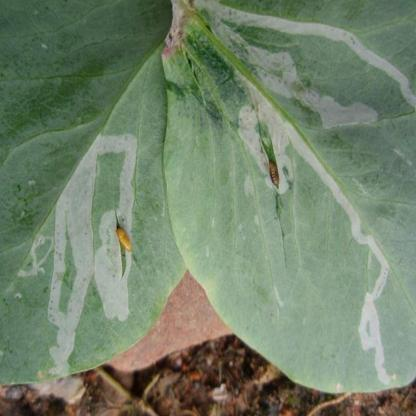whorl-maggot: (111, 224, 137, 260), (265, 156, 284, 192)
